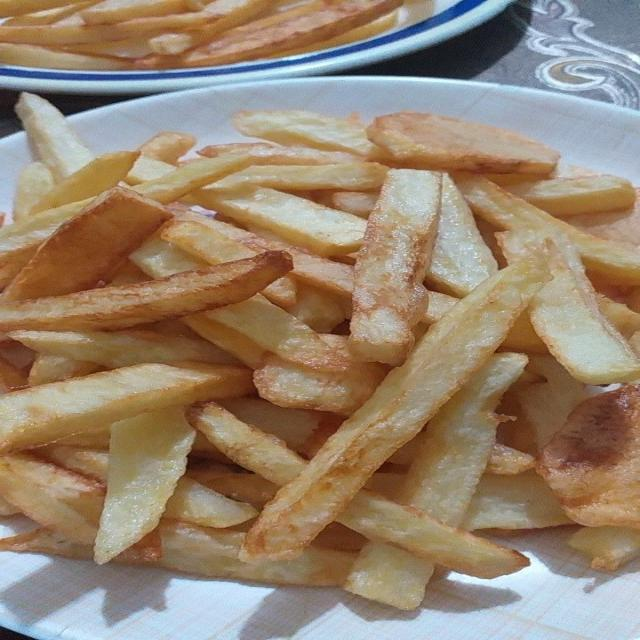potato fries: (0, 95, 639, 609), (242, 258, 547, 561), (0, 0, 403, 70), (0, 252, 290, 330), (0, 364, 252, 451), (399, 354, 527, 525), (457, 177, 639, 284), (3, 187, 169, 301), (349, 170, 441, 365), (529, 234, 639, 383), (95, 406, 194, 563), (337, 491, 522, 575), (539, 385, 639, 526), (368, 112, 559, 175), (212, 186, 366, 256), (11, 329, 236, 368), (427, 174, 497, 295), (254, 355, 384, 415), (16, 93, 94, 180), (234, 110, 377, 157), (462, 471, 573, 530), (30, 152, 139, 212), (508, 175, 635, 217), (568, 526, 639, 571), (13, 161, 55, 220), (139, 131, 196, 164), (487, 443, 535, 475)
